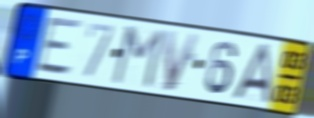6: (205, 39, 238, 96)
7: (83, 21, 116, 81)
A: (231, 42, 273, 105)
E: (33, 17, 85, 78)
M: (109, 24, 167, 91)
V: (163, 28, 203, 94)
